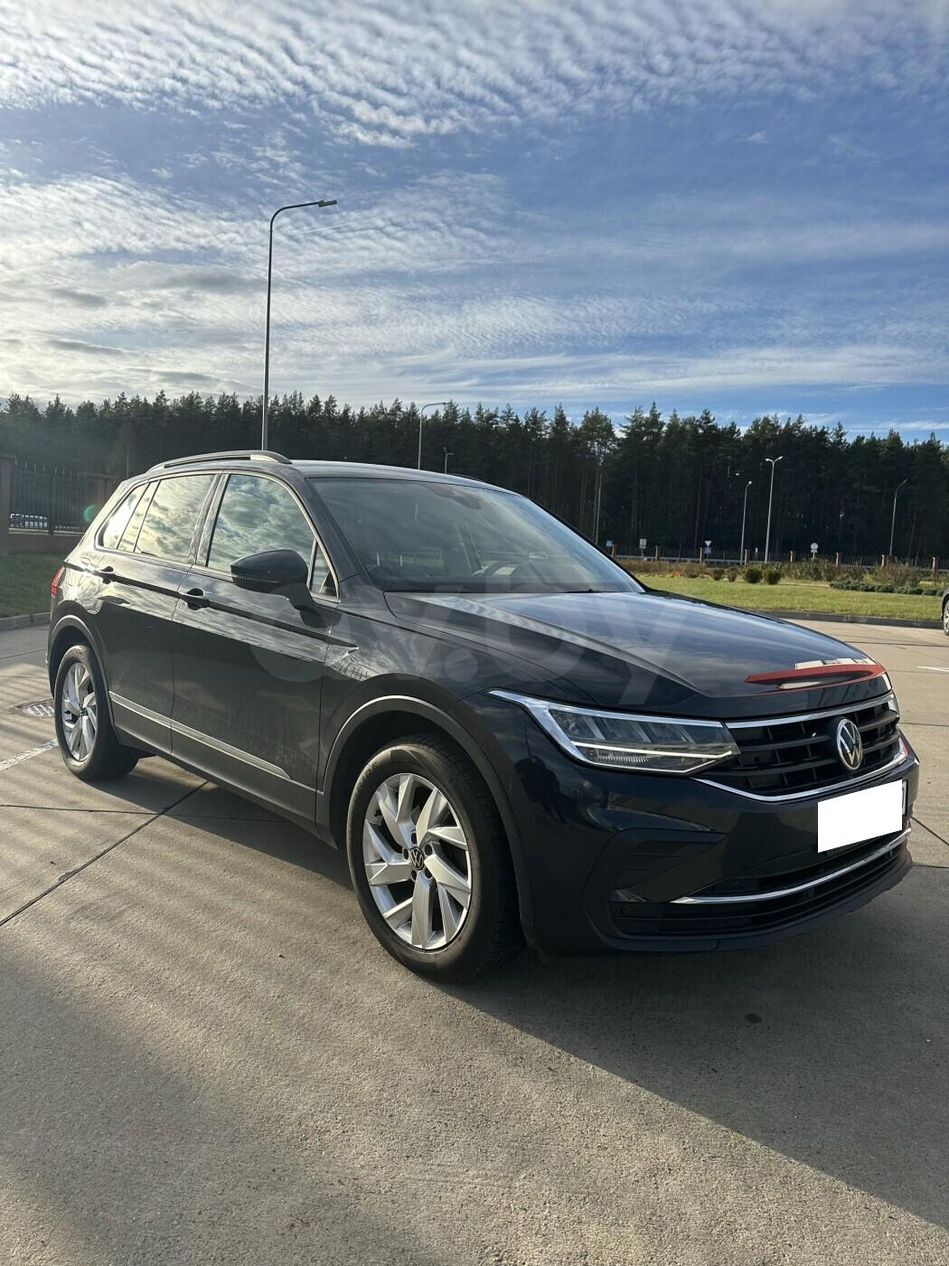Tiguan_2016-2021: (45, 454, 915, 986)
